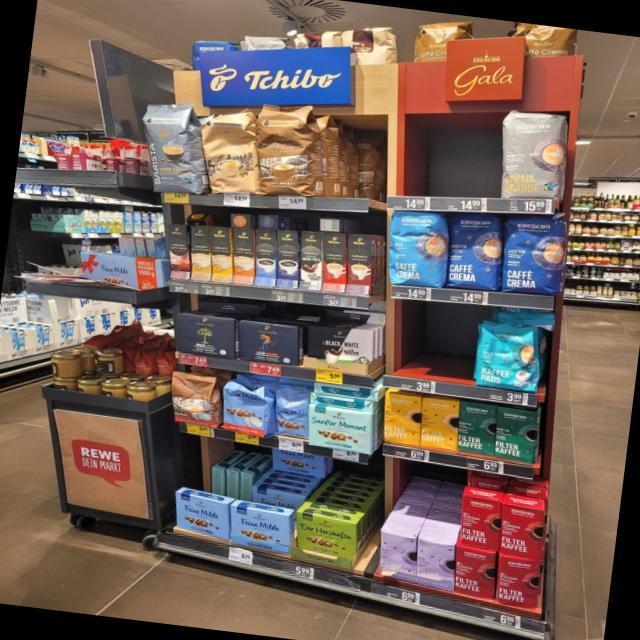BM Gemahlen: (176, 312, 236, 360)
BW Gemahlen: (304, 323, 372, 374)
Barista CC: (138, 100, 211, 196)
CC Mild: (197, 106, 262, 197)
CC Vollmundig: (164, 368, 228, 432)
CC Vollmundig 36 Pads: (254, 101, 324, 200)
FM 36 Pads: (222, 373, 276, 442)
FM Bohne: (275, 381, 311, 439)
FM Gemahlen: (230, 505, 290, 553), (174, 490, 229, 541), (270, 448, 325, 479)
Herzhatfe Mundig: (296, 511, 358, 562)
LG Gemahlen: (237, 318, 300, 367)
SM Gemahlen: (307, 403, 375, 455)
Simo CC Colombia: (164, 223, 191, 281)
Simo CCMild bigpack: (209, 225, 231, 285)
Simo CCVollmundig: (230, 225, 255, 286)
Simo Decaff: (189, 224, 210, 282)
Simo Es Elegant: (321, 231, 347, 295)
Simo Kaffee BW: (298, 229, 323, 291)
Simo Kaffee Kraft: (345, 232, 374, 296), (274, 228, 299, 290)
Simo Kaffee Mild: (253, 227, 276, 288)
